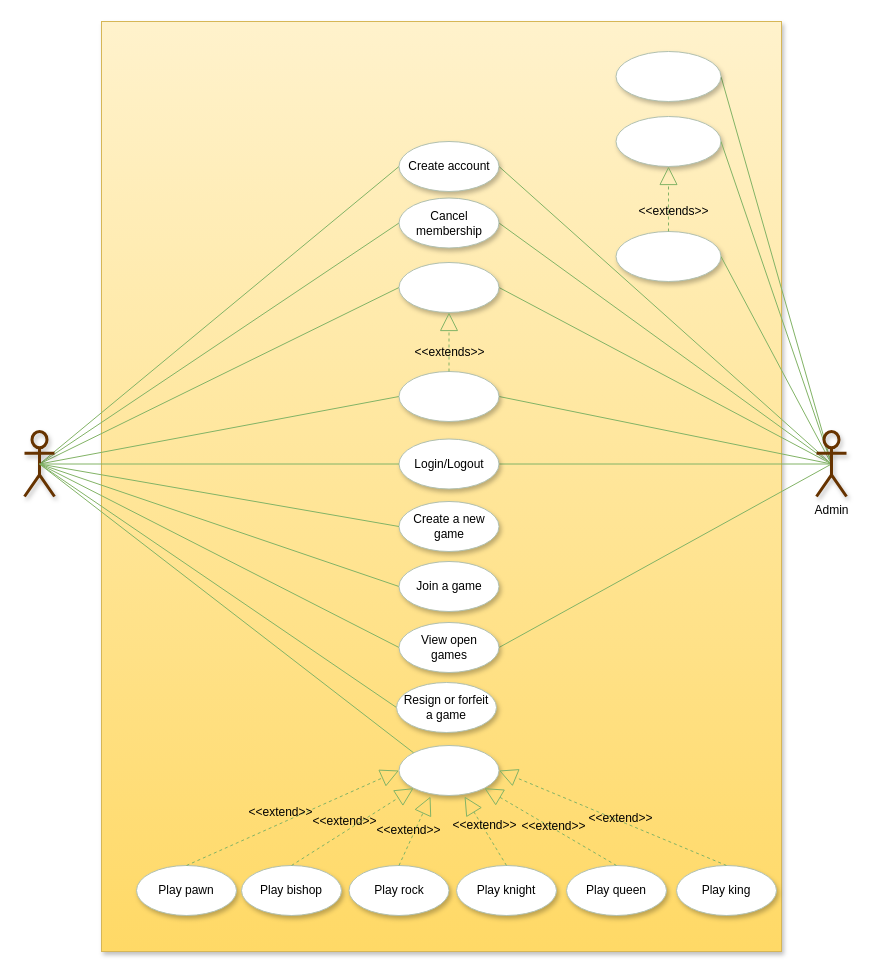
Some shapes in this 871 by 976 pixel diagram are drawn without their labels. The centre of each missing label's shape, as x and y in pixels:
"Add member" goes at point (669, 77).
"Block member" goes at point (669, 257).
"Make move" goes at point (449, 771).
"Member" goes at point (40, 465).
"Modify member" goes at point (669, 143).
"Reset password" goes at point (449, 397).
"Update account" goes at point (449, 289).
